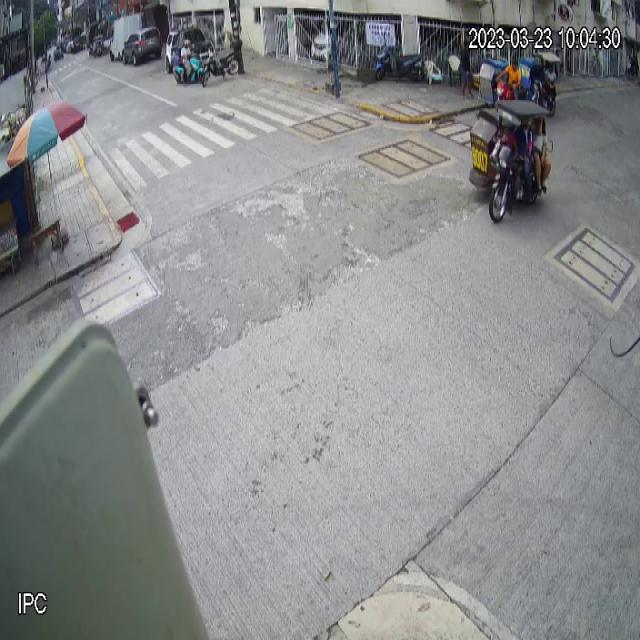Tricycle: (467, 95, 557, 226)
